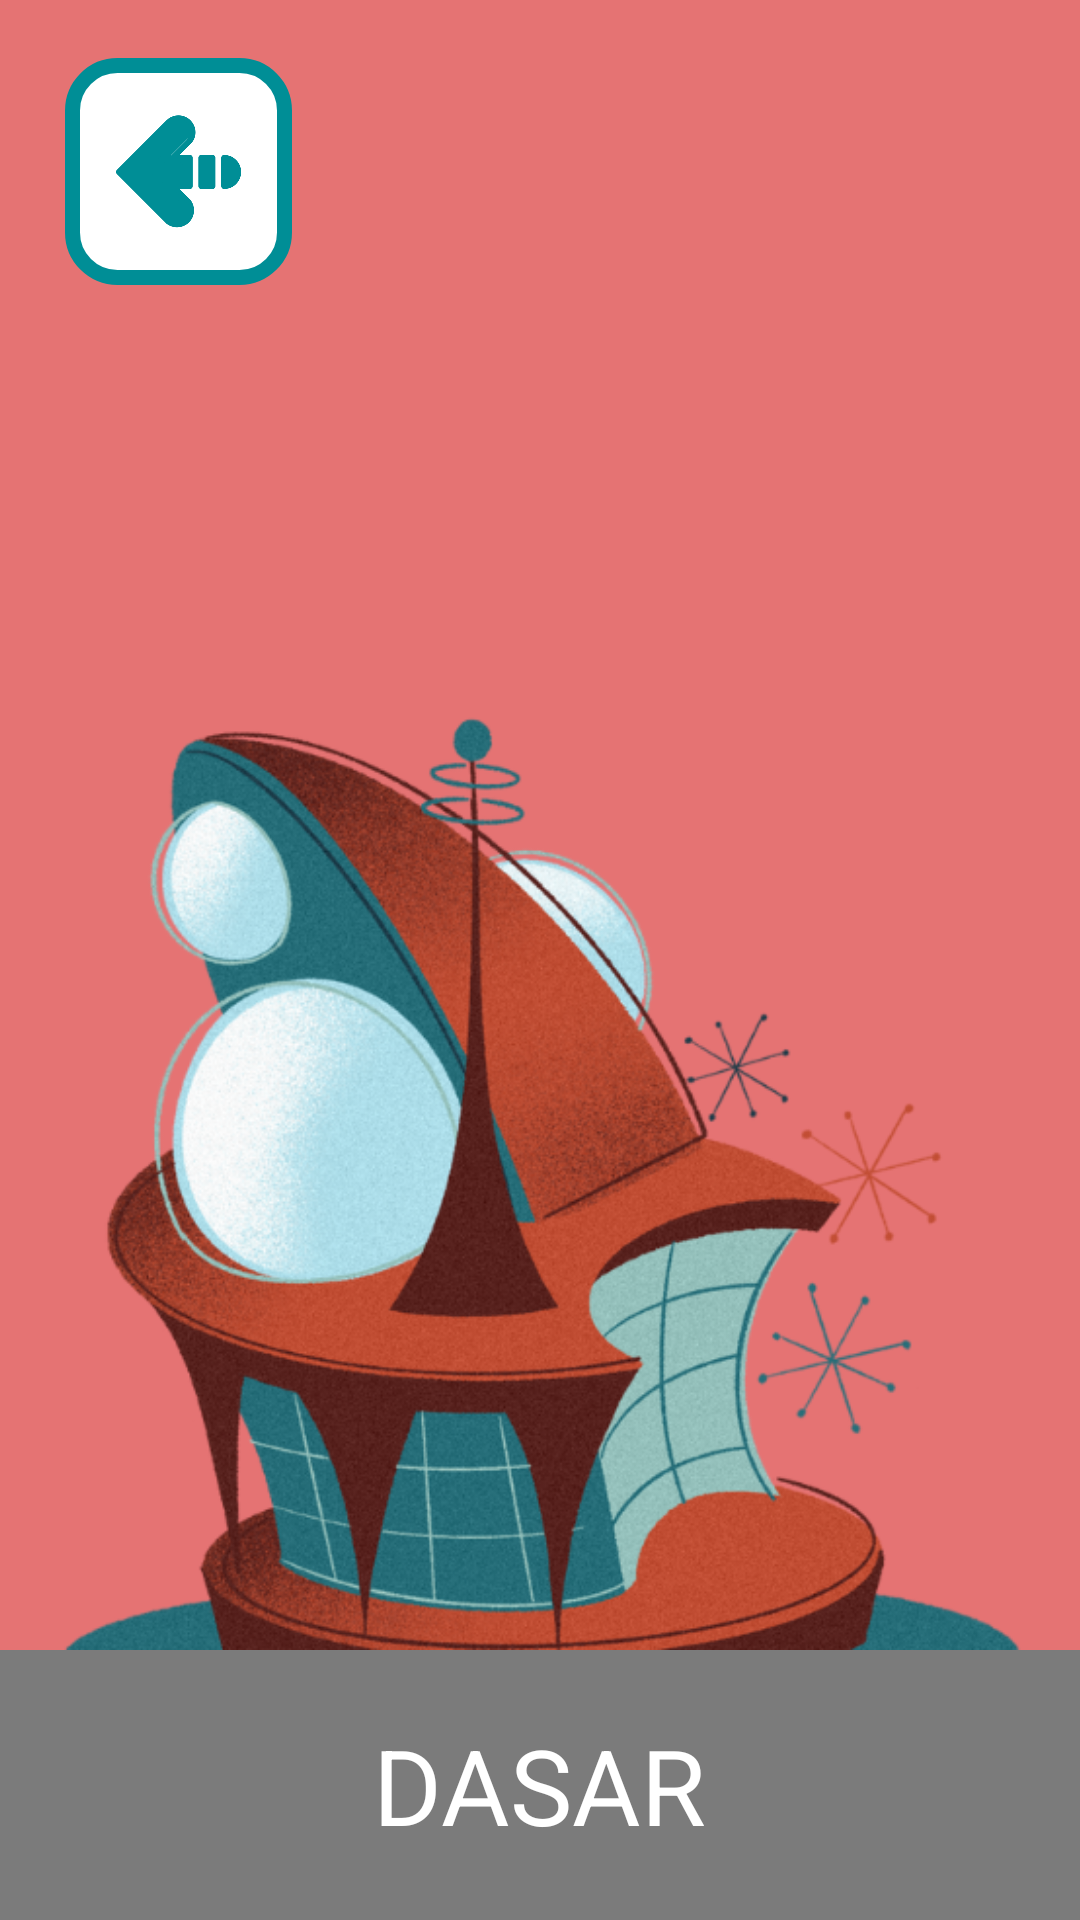

Icons on this 1080 × 1920 Android screen, each with its box as (x1, y1, x2, y2):
Menu Backward: (65, 58, 292, 285)
